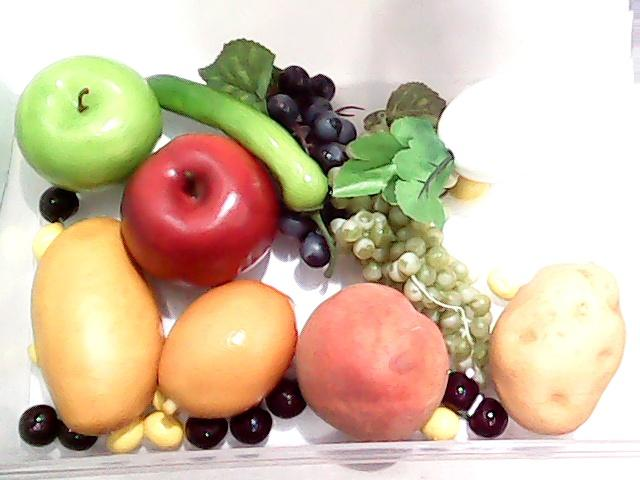apple: (119, 128, 294, 292), (7, 36, 169, 209)
grape: (338, 184, 490, 358), (272, 61, 361, 267)
lemon: (144, 276, 308, 424)
mango: (23, 215, 151, 437)
peach: (293, 259, 473, 443)
pepper: (146, 49, 337, 203)
potato: (487, 257, 627, 439)
radish: (330, 50, 640, 234)
